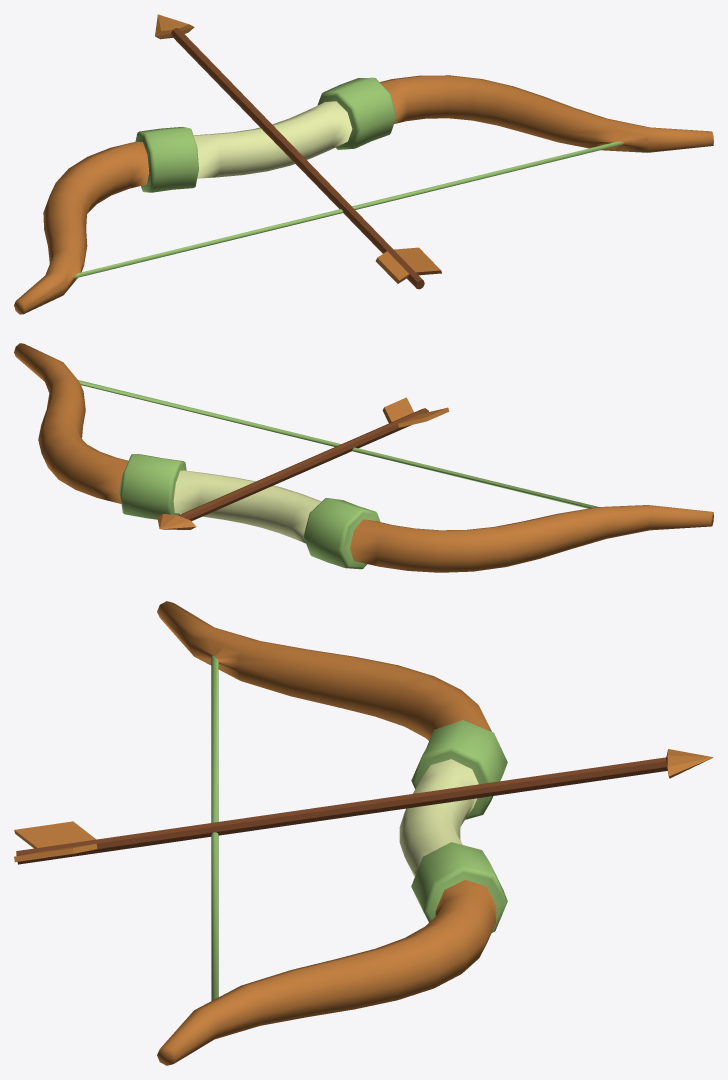
Rendered from bow.fbx.
The picture shows the model from 3 angles, top to bottom: view 1: azimuth 30°, elevation 25°; view 2: azimuth 150°, elevation 25°; view 3: azimuth 270°, elevation 25°; orthographic projection. The views are drawn at different scales.
Visible parts, largest first — view 1: NurbsPath, Cylinder; view 2: NurbsPath, Cylinder; view 3: NurbsPath, Cylinder.
Boxes of the visible parts, left/top/right/bottom form: NurbsPath: left=14, top=75, right=713, bottom=314; Cylinder: left=155, top=14, right=441, bottom=289; NurbsPath: left=14, top=343, right=713, bottom=572; Cylinder: left=157, top=397, right=449, bottom=529; NurbsPath: left=157, top=601, right=507, bottom=1065; Cylinder: left=14, top=749, right=713, bottom=864.
Bounding box in the file's own units: 558 × 65.12 × 368.
